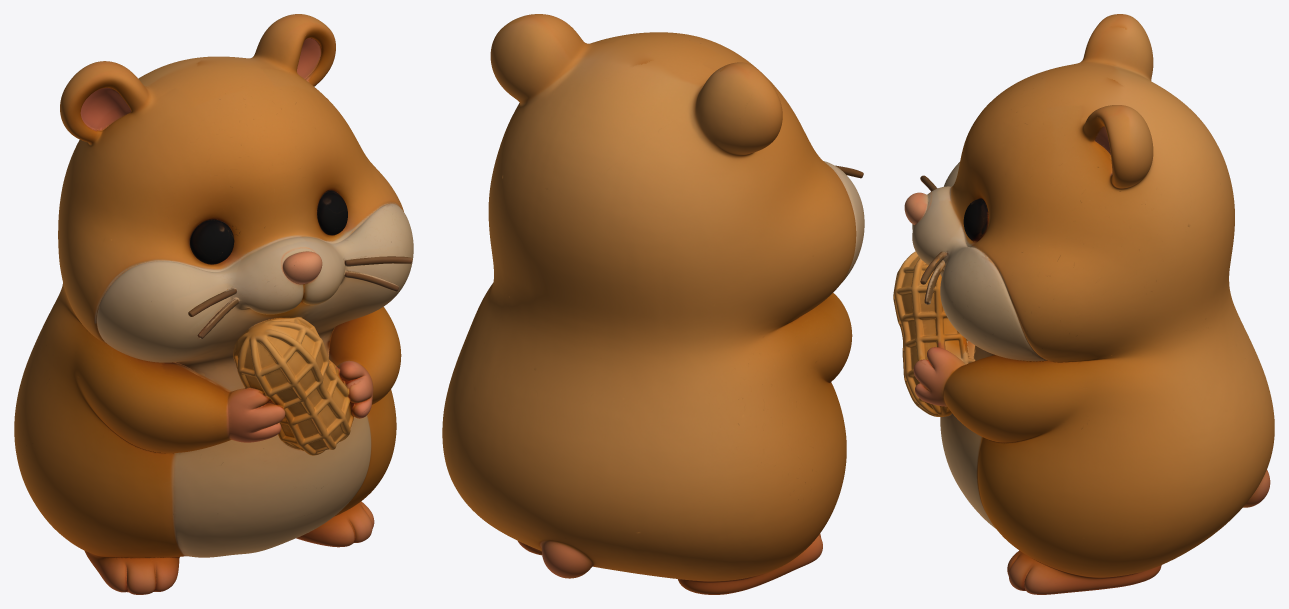
Rendered from ziel.glb.
3 views of the same model, side by side, from view 1: azimuth 30°, elevation 25°; view 2: azimuth 150°, elevation 25°; view 3: azimuth 270°, elevation 25° (orthographic). The views are drawn at different scales.
Parts seen in each view (by area): view 1: texture_pbr_v128; view 2: texture_pbr_v128; view 3: texture_pbr_v128.
Part boxes in pixels (x1,y1,x2,y2): texture_pbr_v128: [14, 14, 413, 594]; texture_pbr_v128: [442, 14, 864, 594]; texture_pbr_v128: [893, 14, 1274, 594].
Size of the model in its own units: 0.7504 by 1.04 by 0.7634.
Materials: 1 (1 with a texture image).
